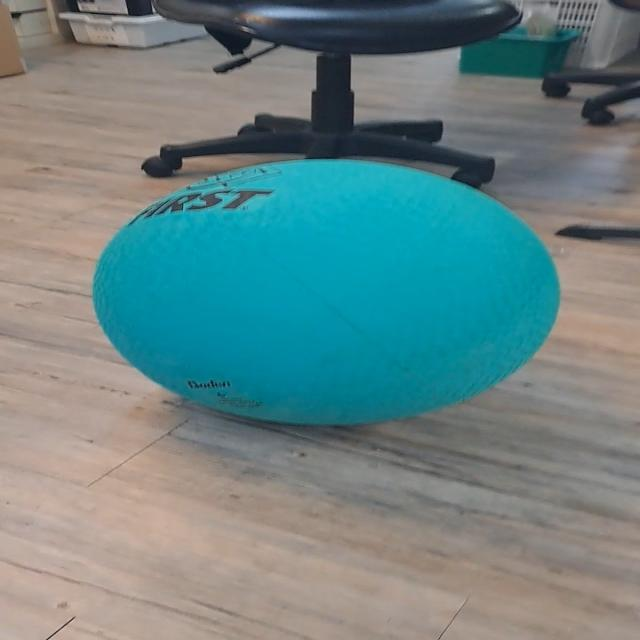ALGAE: (89, 156, 563, 428)
